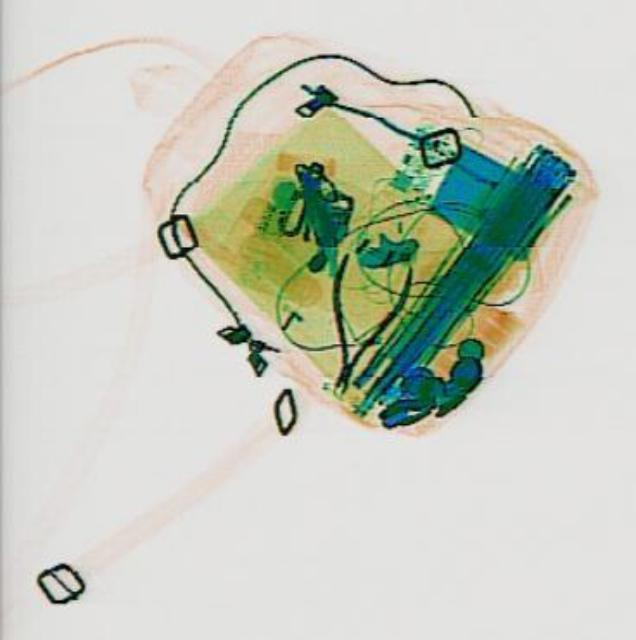Pliers: (299, 246, 413, 400)
